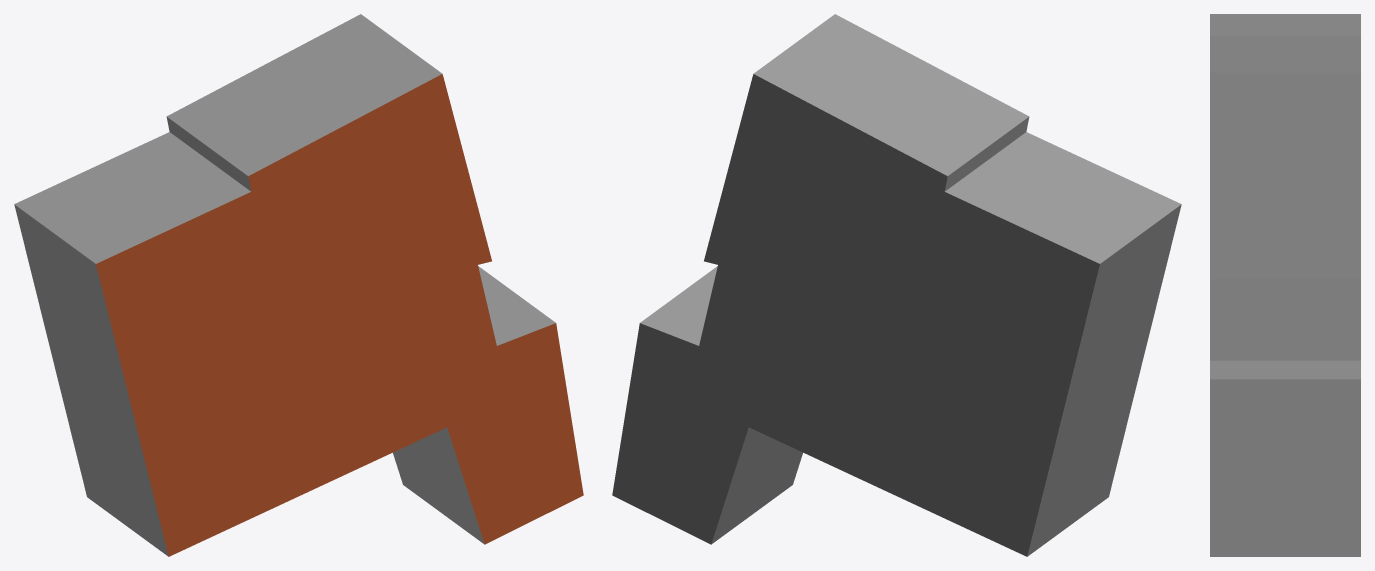
File: construction_4619_assumed_A_Casa_h6m.obj
3 renders of one model, left to right at view 1: azimuth 30°, elevation 25°; view 2: azimuth 150°, elevation 25°; view 3: azimuth 270°, elevation 25°, orthographic. The views are drawn at different scales.
Visible parts, largest first — view 1: construction_4619_assumed_A_Casa; view 2: construction_4619_assumed_A_Casa; view 3: construction_4619_assumed_A_Casa.
Boxes of the visible parts, x1=… form: construction_4619_assumed_A_Casa: x1=14, y1=14, x2=583, y2=556; construction_4619_assumed_A_Casa: x1=612, y1=14, x2=1181, y2=556; construction_4619_assumed_A_Casa: x1=1210, y1=14, x2=1360, y2=556.
Bounding box in the file's own units: 20.68 × 19.49 × 6.
